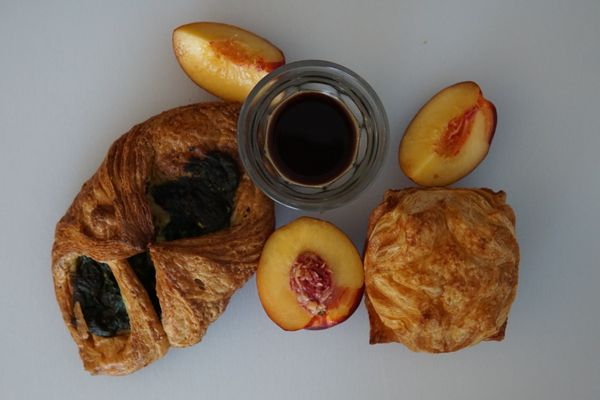salad: (255, 215, 366, 331)
